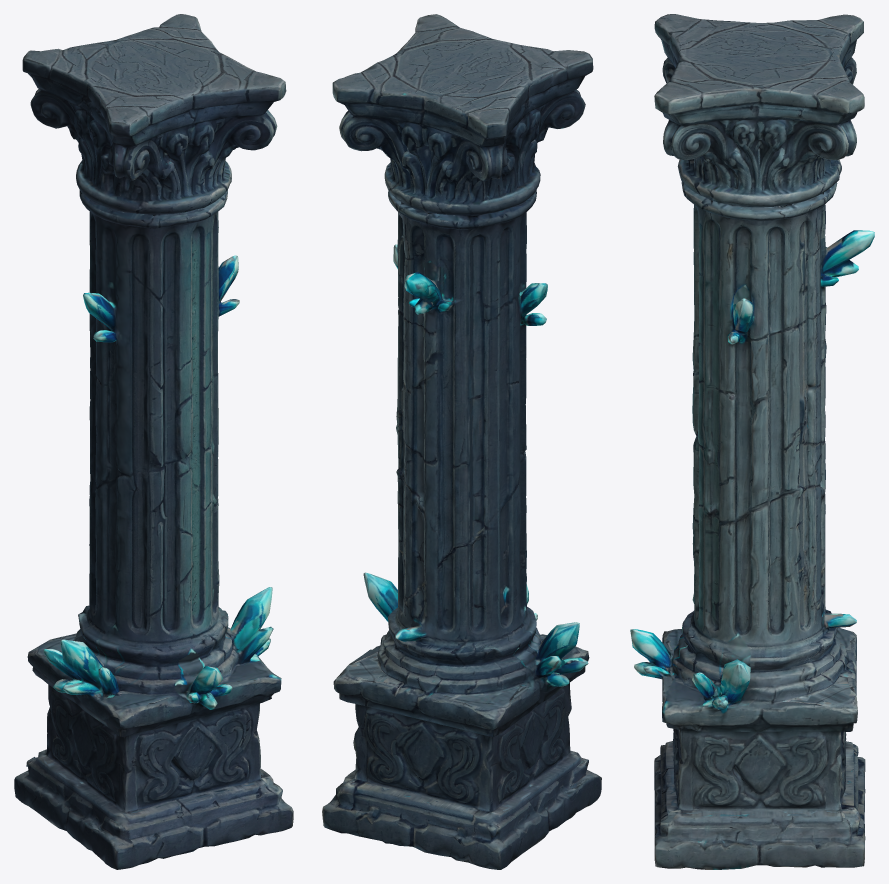
The model's file is Pillar1.fbx.
3 renders of one model, left to right at view 1: azimuth 30°, elevation 25°; view 2: azimuth 150°, elevation 25°; view 3: azimuth 270°, elevation 25°, orthographic. The views are drawn at different scales.
Parts seen in each view (by area): view 1: texture_mapping; view 2: texture_mapping; view 3: texture_mapping.
Part boxes in pixels (x1=…): texture_mapping: x1=14, y1=14, x2=293, y2=869; texture_mapping: x1=322, y1=14, x2=601, y2=869; texture_mapping: x1=630, y1=14, x2=874, y2=869.
Bounding box in the file's own units: 0.304 × 0.2882 × 1.
1 material, 1 textured.
